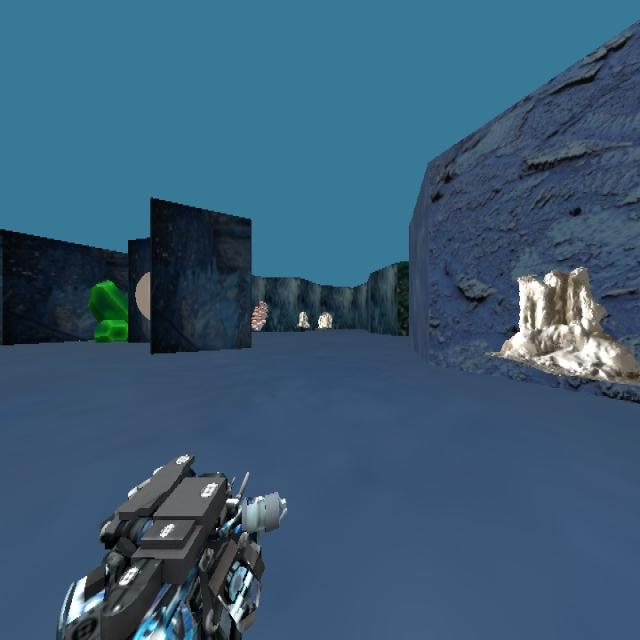Circle: (126, 236, 150, 343)
Diamon: (87, 278, 128, 342)
Ice: (498, 251, 640, 396), (297, 302, 312, 332), (318, 311, 335, 335)
Mushroom: (249, 294, 273, 340)
